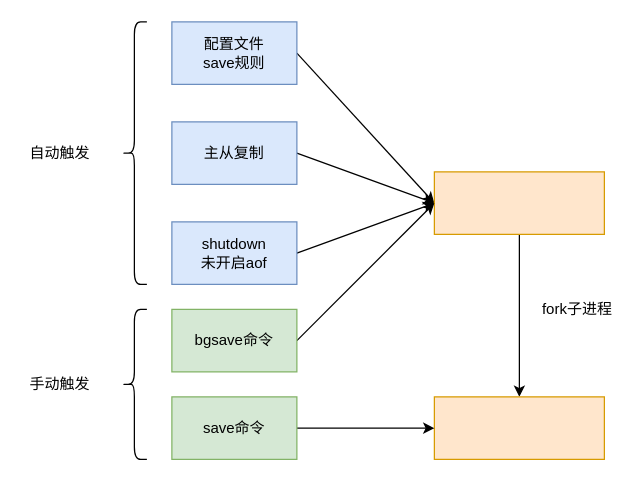
This 641x481 diagram has some shape labels left out. Each missing label, with the centre of its shape:
rdbSave: the point at 518,427
rdbSaveBackground: the point at 518,202
